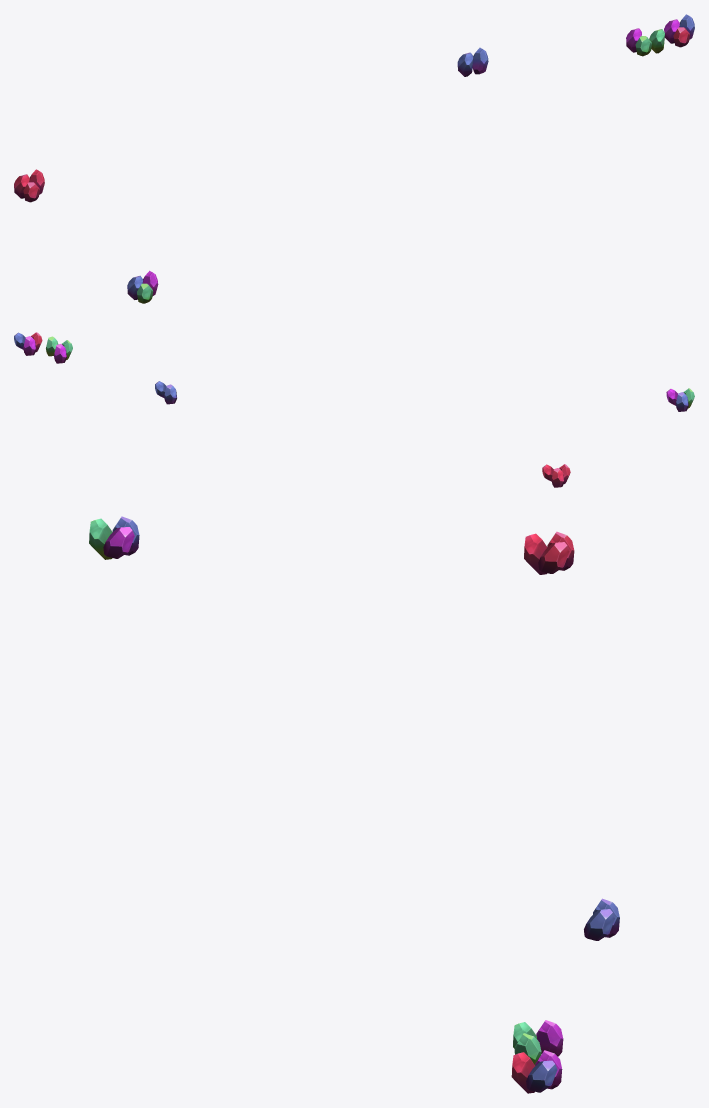
Rendered from Crystals.fbx.
3 views of the same model, one above another, from view 1: azimuth 30°, elevation 25°; view 2: azimuth 150°, elevation 25°; view 3: azimuth 270°, elevation 25° (orthographic). The views are drawn at different scales.
Bounding box in the file's own units: 277 × 9.17 × 112.
7 materials, 7 textured.
